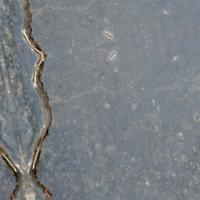crack: (0, 2, 66, 199)
